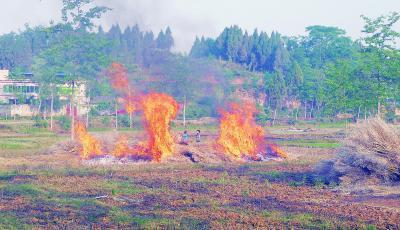fire: (112, 90, 177, 158), (216, 94, 262, 161), (64, 109, 104, 158)
